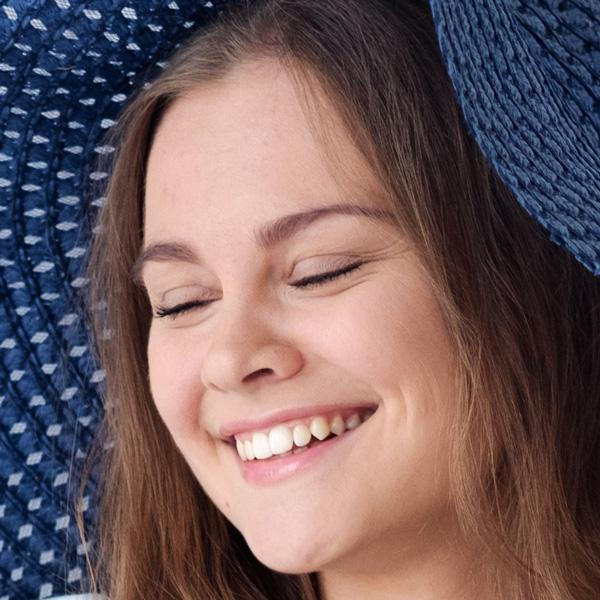Eyes: (272, 238, 380, 308), (149, 270, 227, 335)
